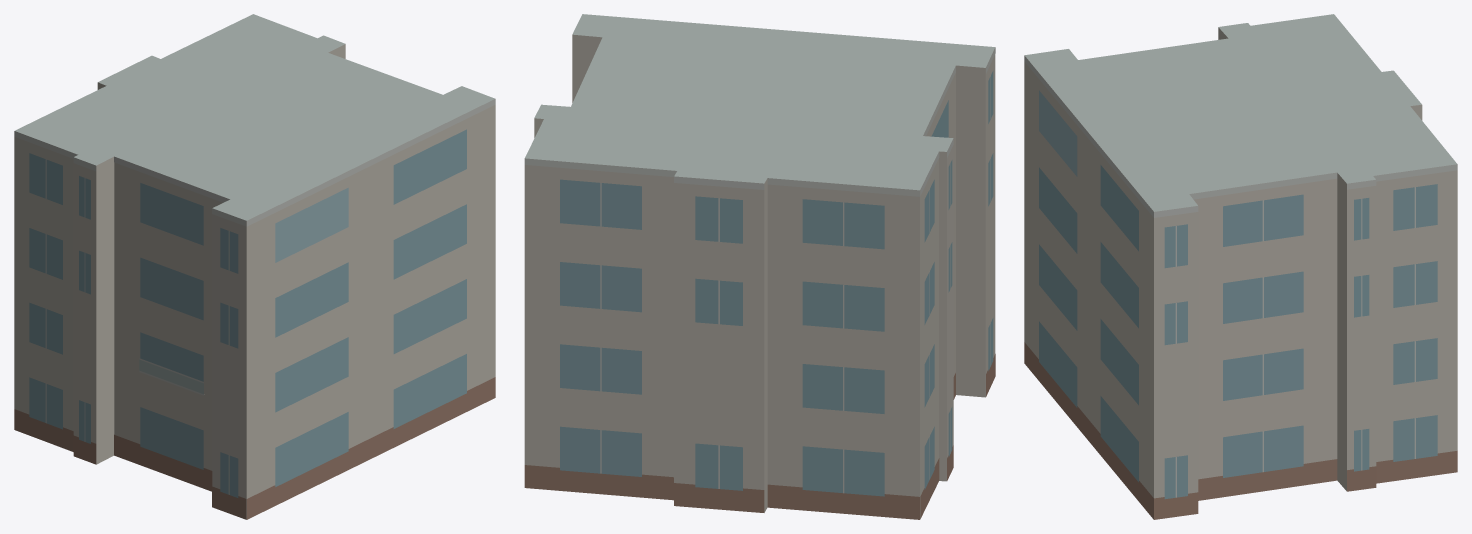
Rendered from survey-upis-32619239.glb.
3 views of the same model, side by side, from view 1: azimuth 30°, elevation 25°; view 2: azimuth 150°, elevation 25°; view 3: azimuth 270°, elevation 25° (orthographic). The views are drawn at different scales.
Visible parts, largest first — view 1: survey-upis-32619239.tmp; view 2: survey-upis-32619239.tmp; view 3: survey-upis-32619239.tmp.
Part boxes in pixels (x1,y1,x2,y2): survey-upis-32619239.tmp: (14,14,495,519); survey-upis-32619239.tmp: (524,14,995,519); survey-upis-32619239.tmp: (1024,14,1457,519).
Size of the model in its own units: 17.1 by 12.4 by 15.82.
